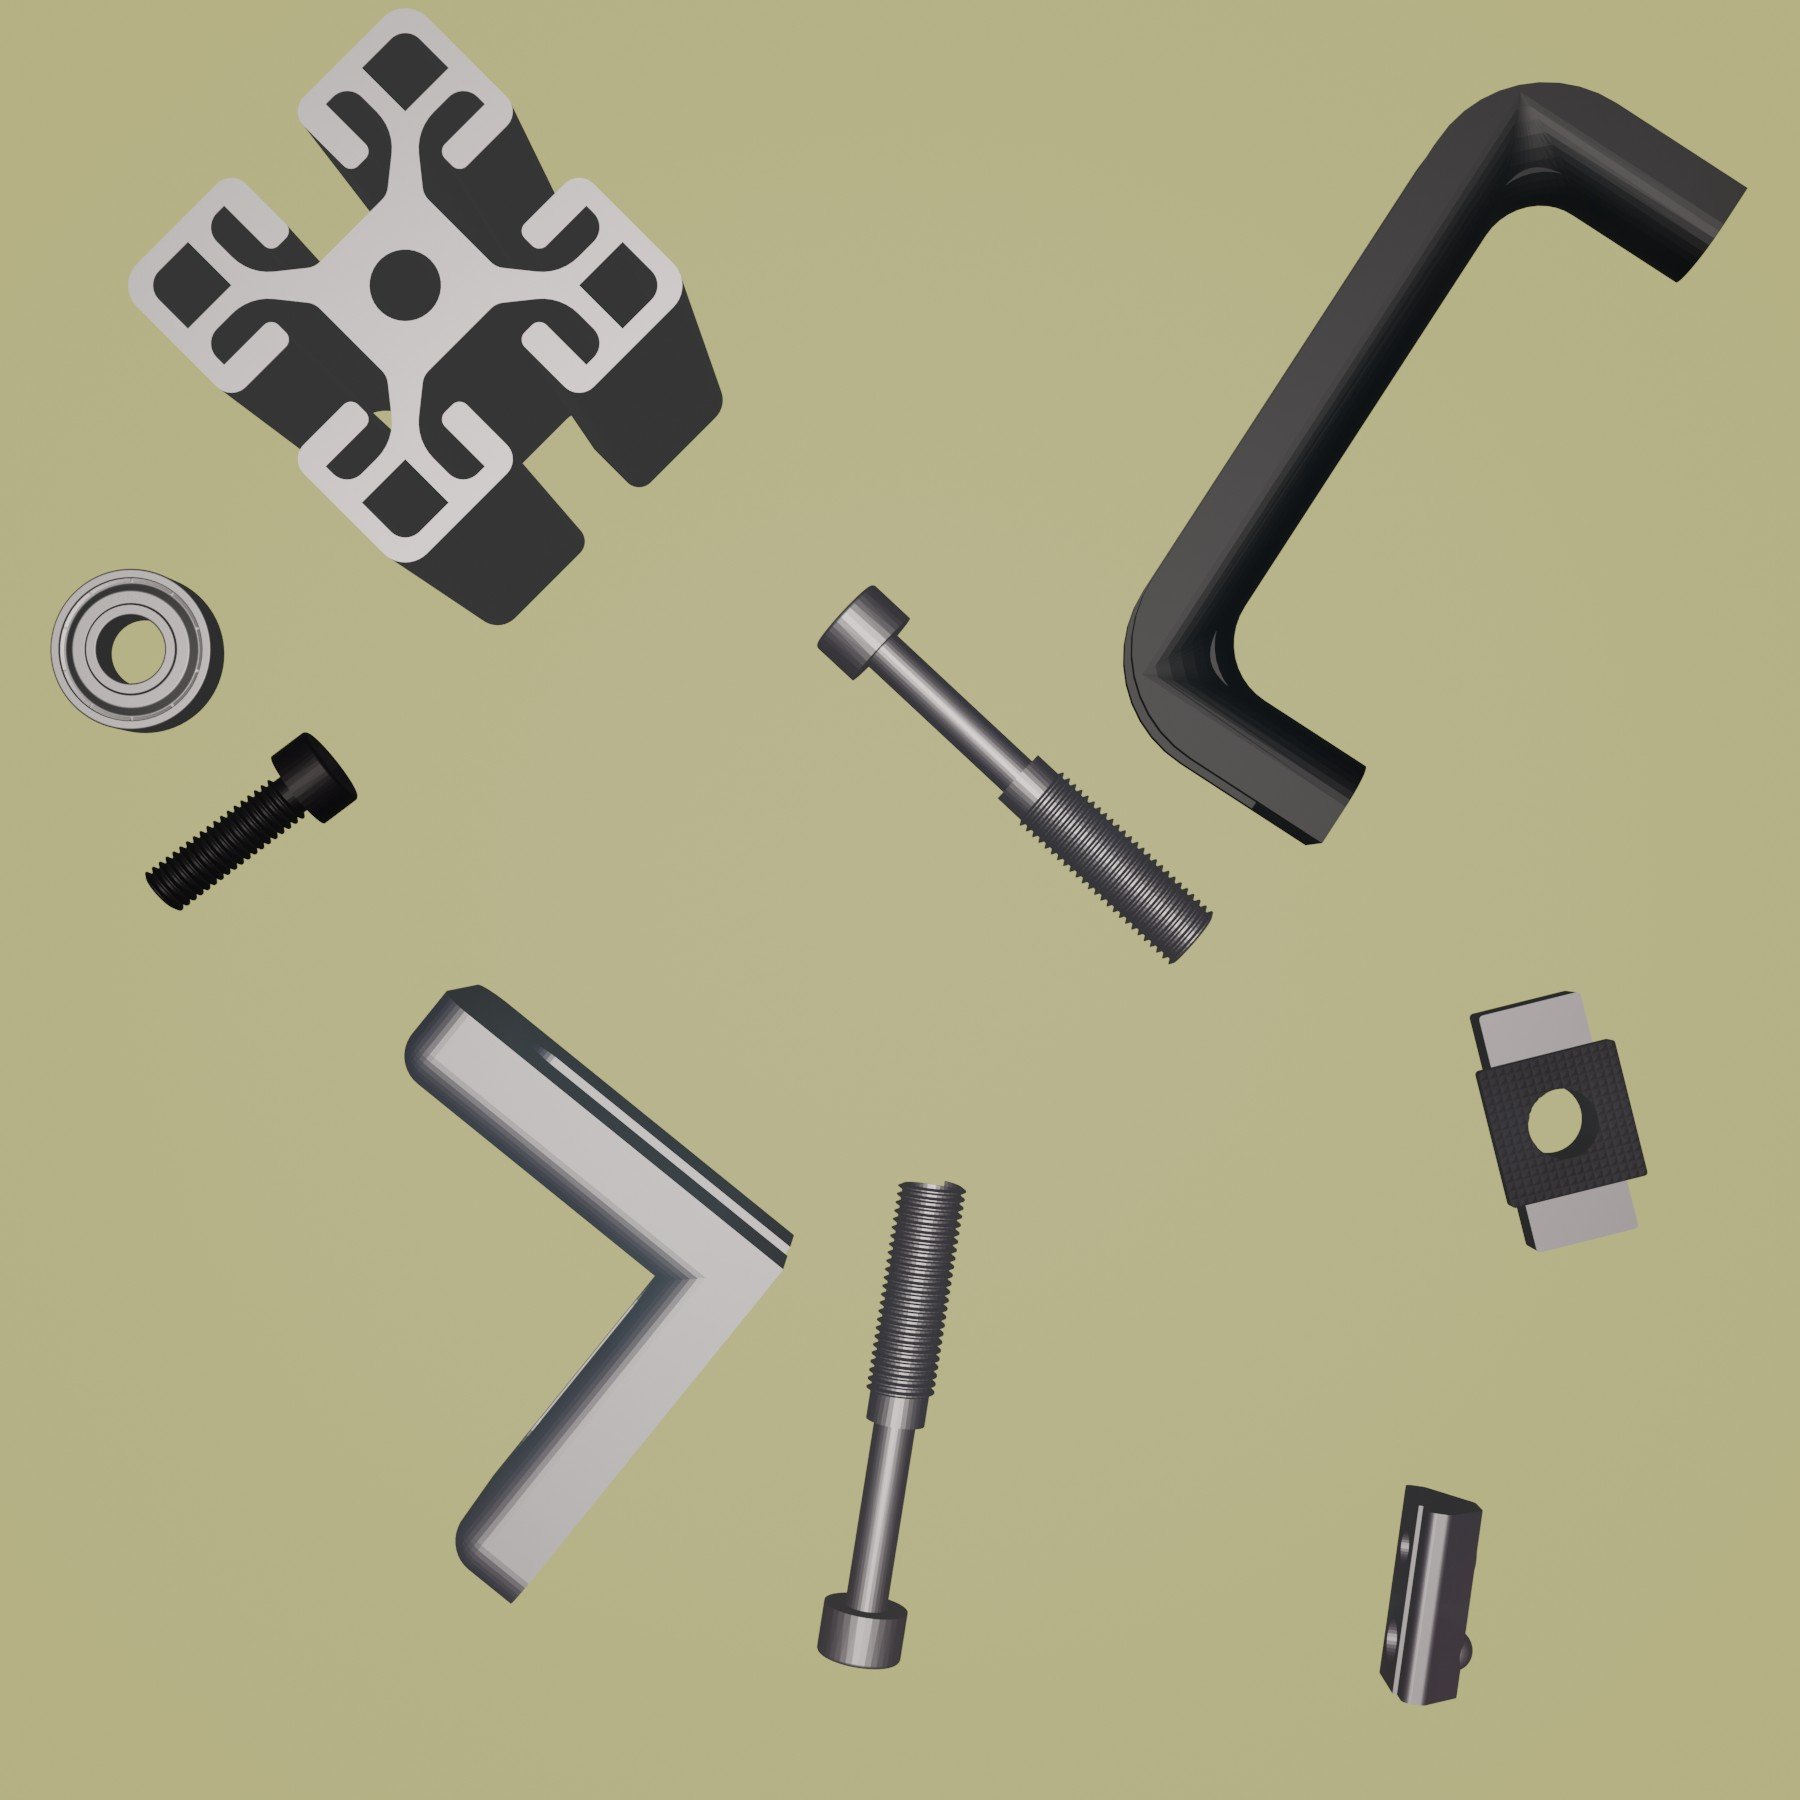Aluminium Extension: (127, 5, 725, 626)
Ball Bearing: (48, 565, 227, 737)
Multiwinkel: (402, 982, 798, 1604)
Pull Handle: (1119, 77, 1751, 846)
Shoulder Socket Head Cap Screw: (813, 580, 1215, 969), (816, 1175, 969, 1673)
Socket Head Cap Screw: (143, 730, 361, 915)
T Nut Square: (1467, 986, 1650, 1254)
T Spring Nut: (1375, 1479, 1485, 1708)
